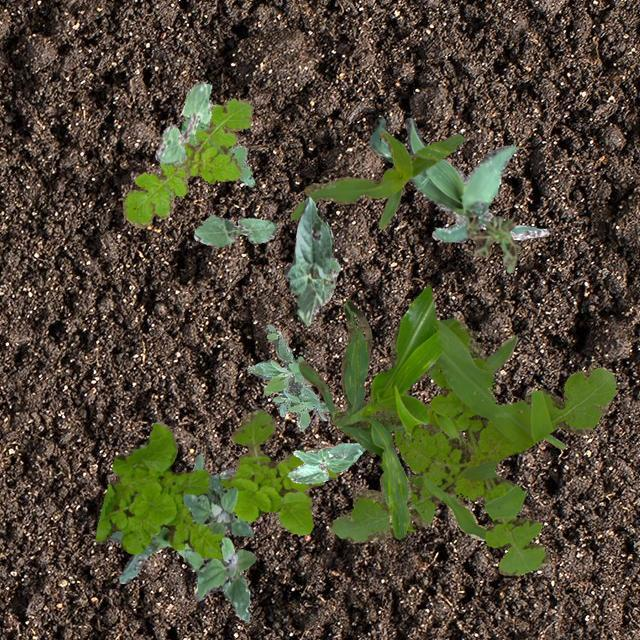crop: (298, 286, 442, 538), (422, 332, 564, 540), (370, 116, 548, 242), (290, 130, 463, 228), (108, 450, 235, 582), (284, 196, 339, 326), (154, 80, 210, 164), (286, 442, 364, 482), (192, 213, 276, 246)
weed: (328, 318, 616, 574), (94, 408, 340, 560), (121, 96, 252, 228), (246, 324, 328, 431), (180, 82, 253, 186), (182, 536, 256, 620), (180, 472, 252, 536), (464, 212, 520, 272), (370, 474, 424, 530)
